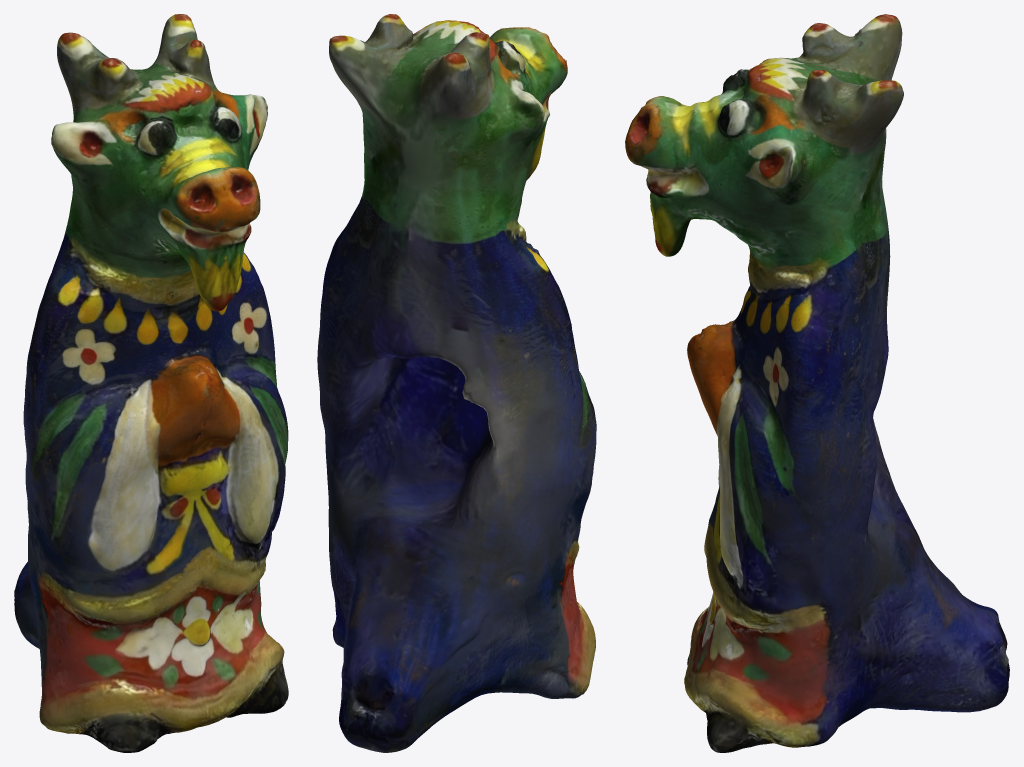
3 views of the same model, side by side, from view 1: azimuth 30°, elevation 25°; view 2: azimuth 150°, elevation 25°; view 3: azimuth 270°, elevation 25° (orthographic). The views are drawn at different scales.
Bounding box in the file's own units: 0.2405 × 0.6057 × 0.313.
Materials: 1 (1 with a texture image).
